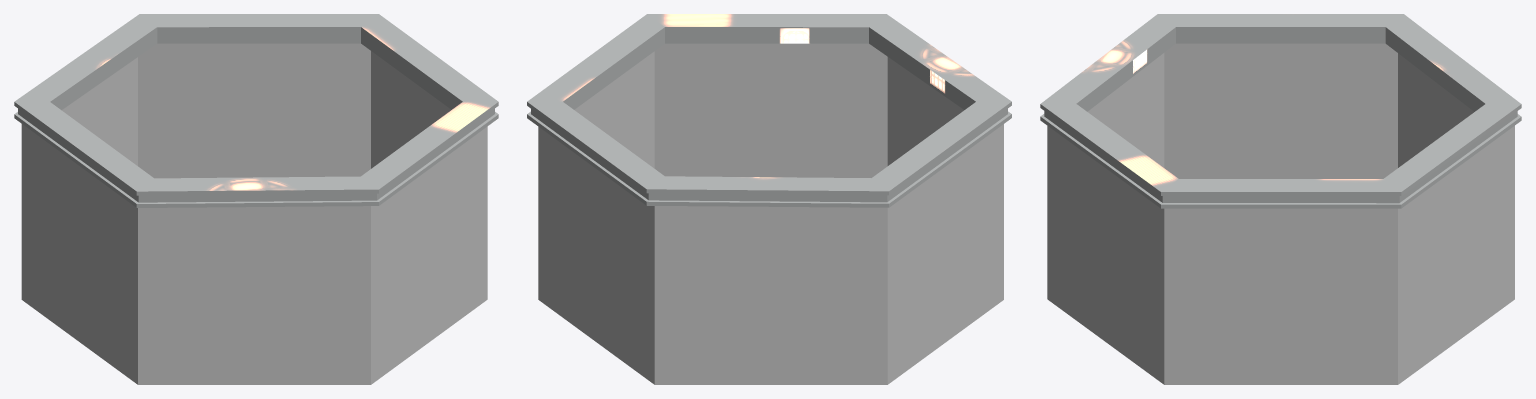
File: SM_ElevatorGlass.fbx
The picture shows the model from 3 angles, left to right: view 1: azimuth 30°, elevation 25°; view 2: azimuth 150°, elevation 25°; view 3: azimuth 270°, elevation 25°; orthographic projection.
Visible parts, largest first — view 1: SM_ElevatorGlass_LOD0; view 2: SM_ElevatorGlass_LOD0; view 3: SM_ElevatorGlass_LOD0.
Boxes of the visible parts, x1,y1,x2,y2 form: SM_ElevatorGlass_LOD0: (14, 14, 498, 384); SM_ElevatorGlass_LOD0: (527, 14, 1011, 384); SM_ElevatorGlass_LOD0: (1040, 14, 1521, 384).
Bounding box in the file's own units: 800 × 414 × 914.
Materials: 2 (1 with a texture image).
